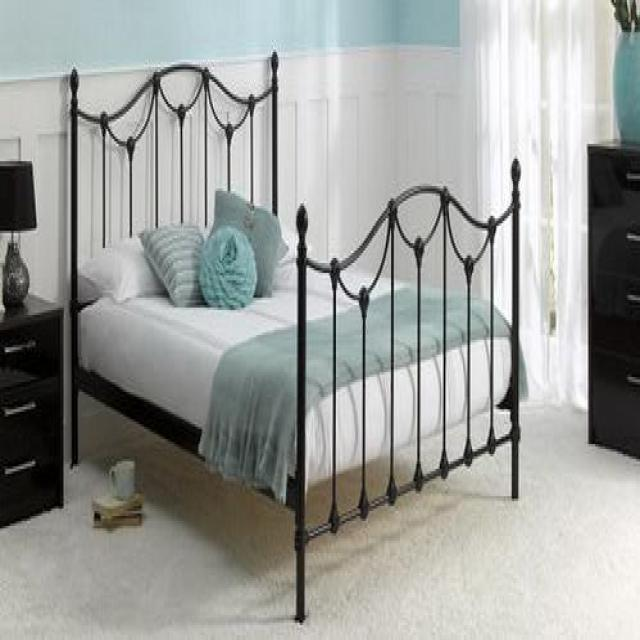bed: (66, 50, 524, 622)
